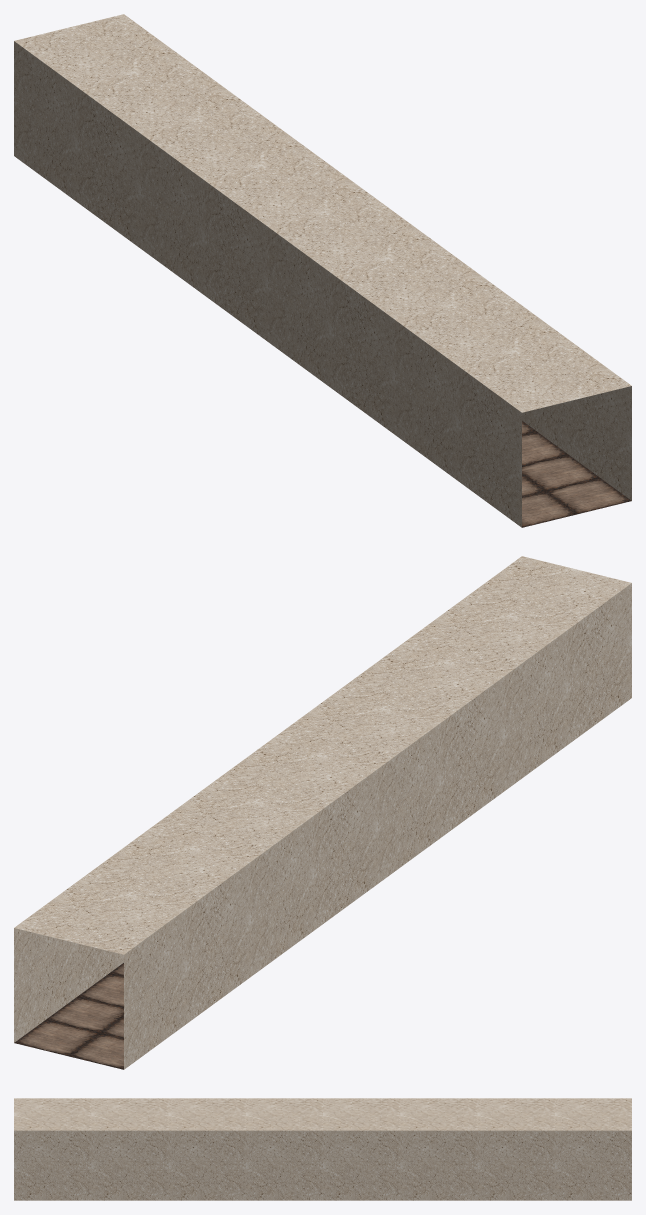
Rendered from aaad.glb.
3 views of the same model, one above another, from view 1: azimuth 30°, elevation 25°; view 2: azimuth 150°, elevation 25°; view 3: azimuth 270°, elevation 25° (orthographic). The views are drawn at different scales.
Visible parts, largest first — view 1: Plane.001; view 2: Plane.001; view 3: Plane.001.
Part boxes in pixels (x1=…): Plane.001: x1=14, y1=14, x2=631, y2=527; Plane.001: x1=14, y1=556, x2=631, y2=1069; Plane.001: x1=14, y1=1098, x2=631, y2=1200.
Bounding box in the file's own units: 2 × 2 × 16.
Materials: 2 (2 with a texture image).
